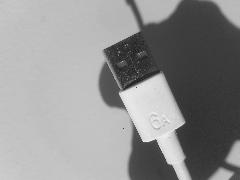electronic: (12, 56, 214, 180)
